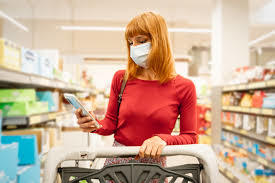with_basket: (52, 143, 211, 183)
with_mask: (124, 16, 172, 71)
